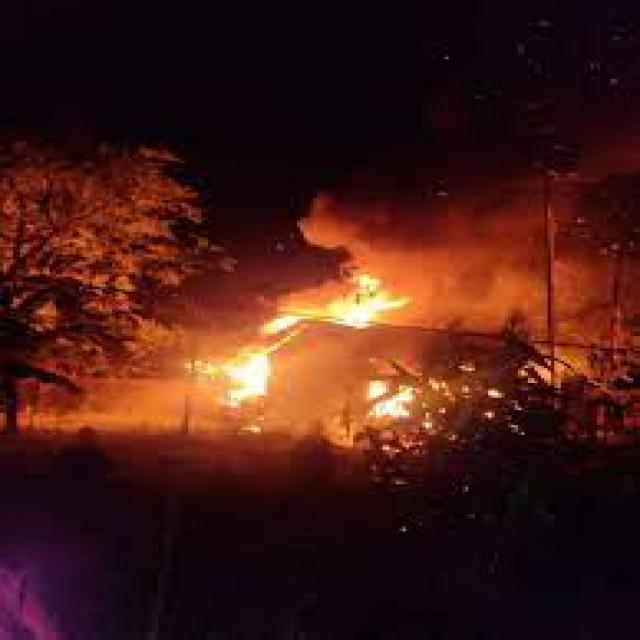fire: (333, 274, 416, 329), (198, 351, 274, 408), (363, 380, 416, 418), (254, 311, 300, 346)
smoke: (261, 86, 634, 328)
